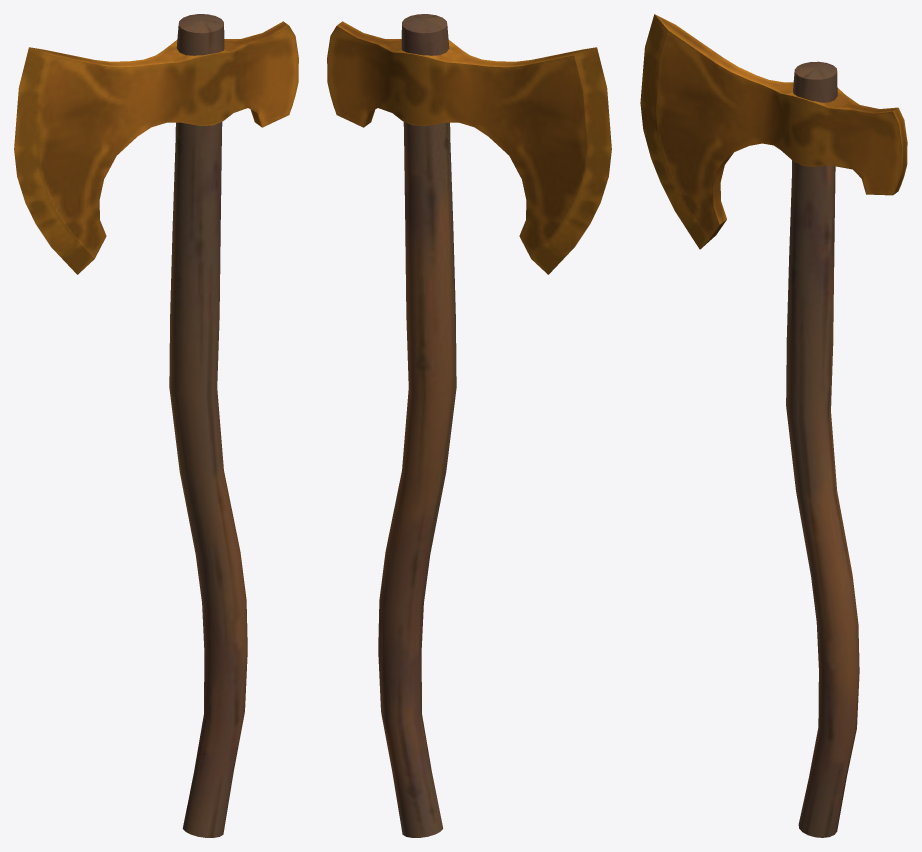
Rendered from Axe_Bronze.glb.
3 views of the same model, side by side, from view 1: azimuth 30°, elevation 25°; view 2: azimuth 150°, elevation 25°; view 3: azimuth 330°, elevation 25° (orthographic). The views are drawn at different scales.
Visible parts, largest first — view 1: Axe_Bronze; view 2: Axe_Bronze; view 3: Axe_Bronze.
Boxes of the visible parts, box(x1,y1,x2,y2) form: Axe_Bronze: box(14, 14, 298, 837); Axe_Bronze: box(327, 14, 611, 837); Axe_Bronze: box(640, 14, 907, 837).
Size of the model in its own units: 0.2945 by 0.8269 by 0.046.
Materials: 1 (1 with a texture image).
